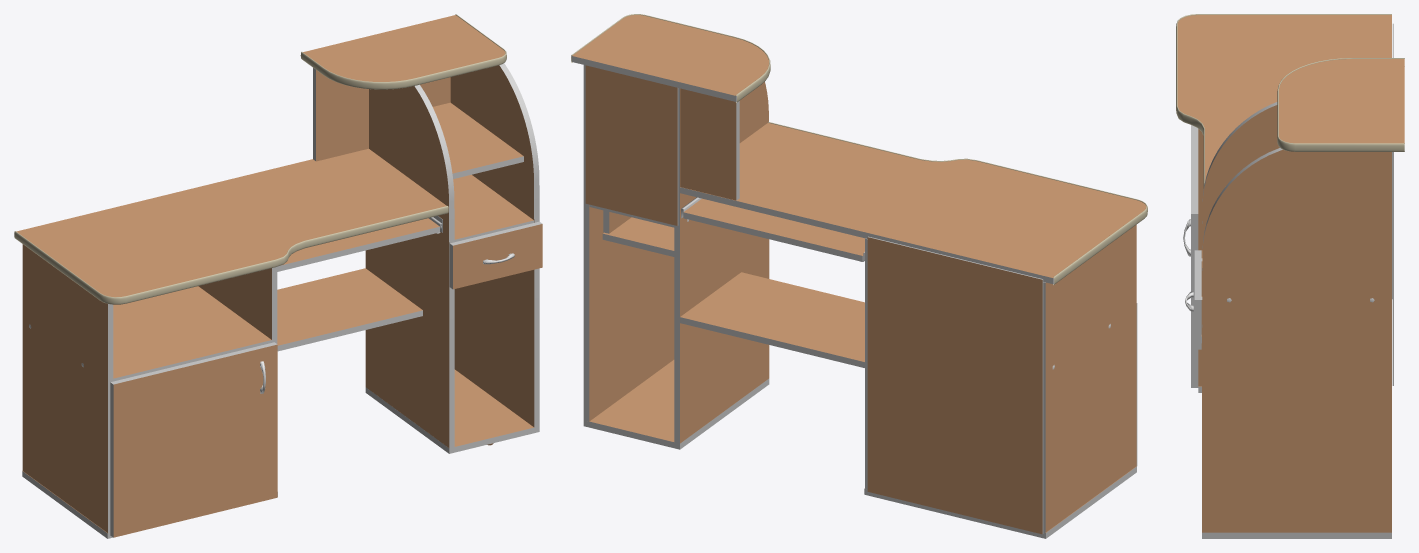
The model's file is desk.glb.
3 views of the same model, side by side, from view 1: azimuth 30°, elevation 25°; view 2: azimuth 150°, elevation 25°; view 3: azimuth 270°, elevation 25° (orthographic). The views are drawn at different scales.
Visible parts, largest first — view 1: desk; view 2: desk; view 3: desk.
Boxes of the visible parts, bbox=[...] form: desk: bbox=[14, 14, 542, 538]; desk: bbox=[571, 14, 1147, 538]; desk: bbox=[1176, 14, 1404, 538].
Size of the model in its own units: 1.39 by 1.05 by 0.5426.
